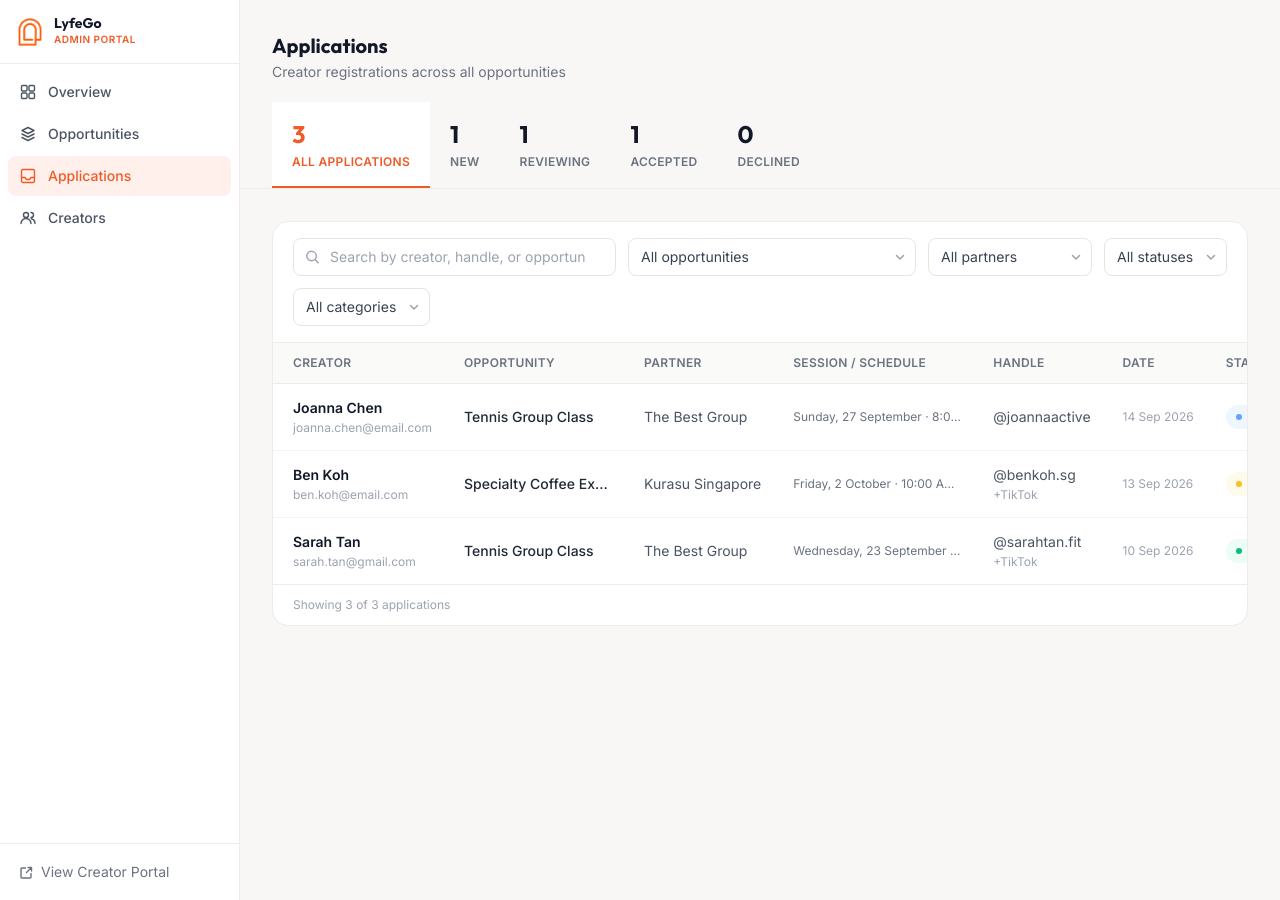
Scenario: Admin Applications list › combines filters with search, and clears them all at once
Expected: the text "Showing 3 of 3 applications" is shown, 293,597 -> 450,613
Expected: the button "Clear all filters" is not shown
Select "The Best Group" in the dropdown named "Partner" at (1010, 257), box 928,238 -> 1092,276
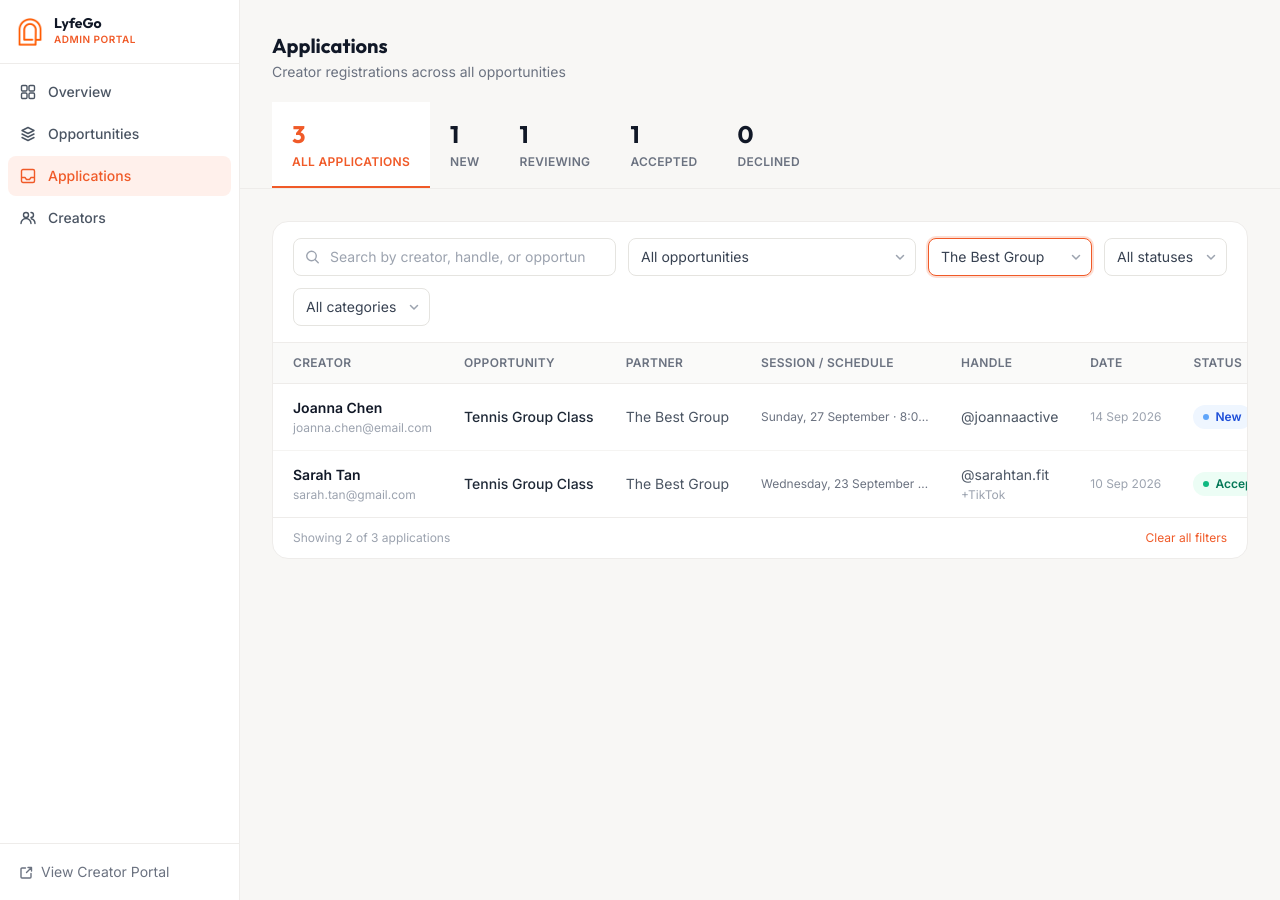
Result: the text "Showing 2 of 3 applications" is shown at 293,530 -> 450,546
Select "Sport" in the dropdown named "Category" at (362, 307), box 293,288 -> 430,326
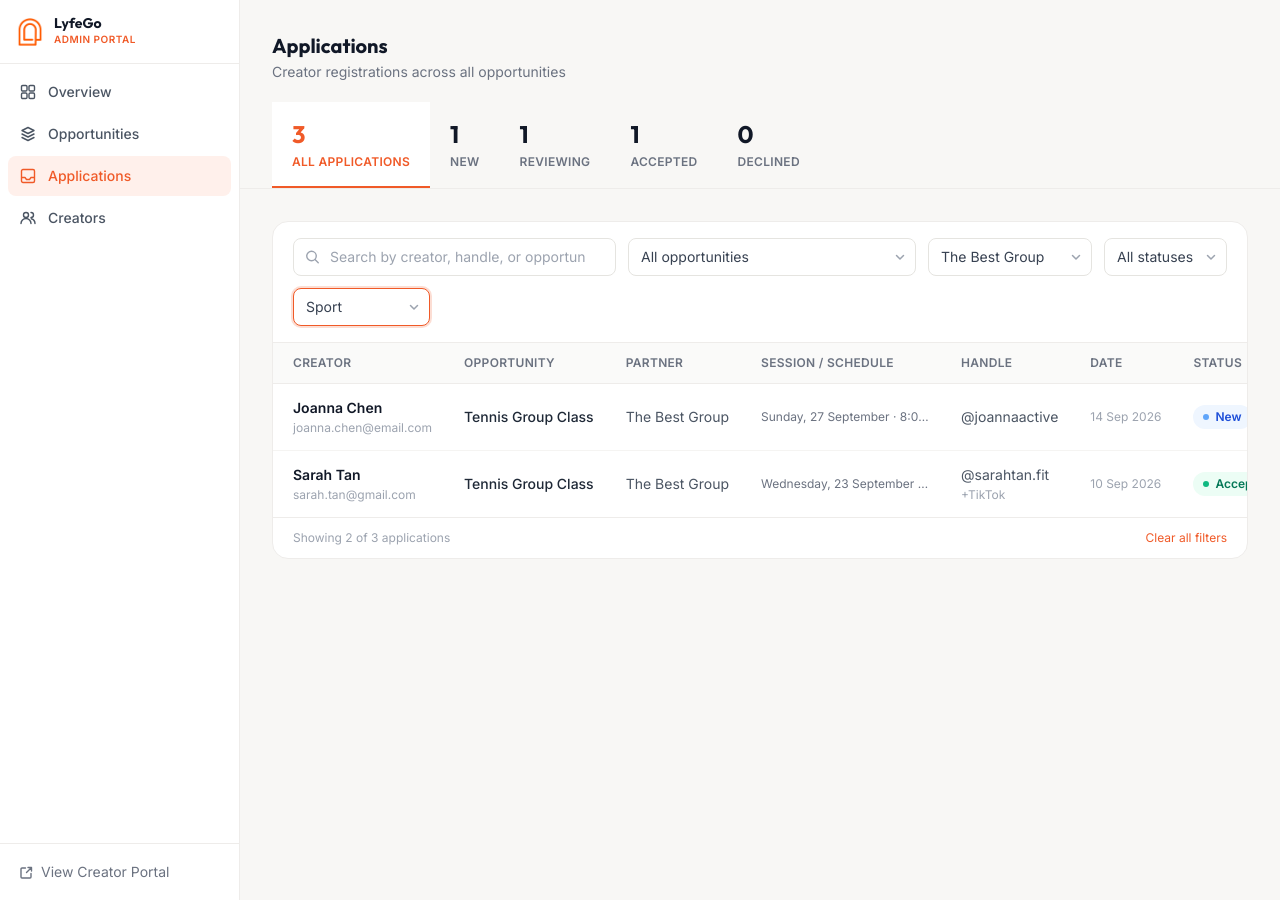
Type "@sarah" into the search field labelled "Search by creator, handle, or opportunity".
click(454, 257); type("@sarah")  # box 293,238 -> 616,276
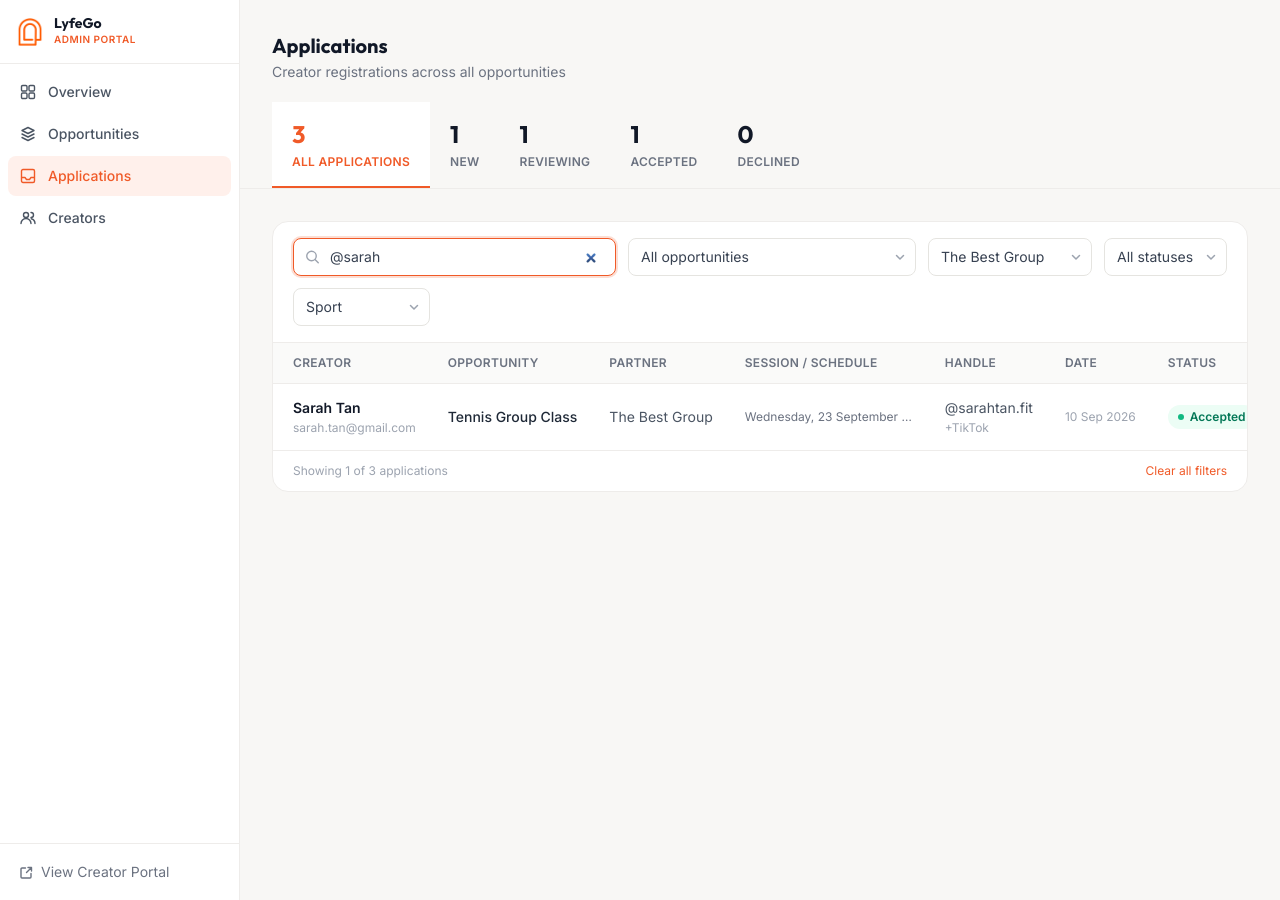
Result: the text "Showing 1 of 3 applications" is shown at 293,463 -> 448,479
Select "Specialty Coffee Experience for Two" in the dropdown named "Opportunity" at (772, 257), box 628,238 -> 916,276
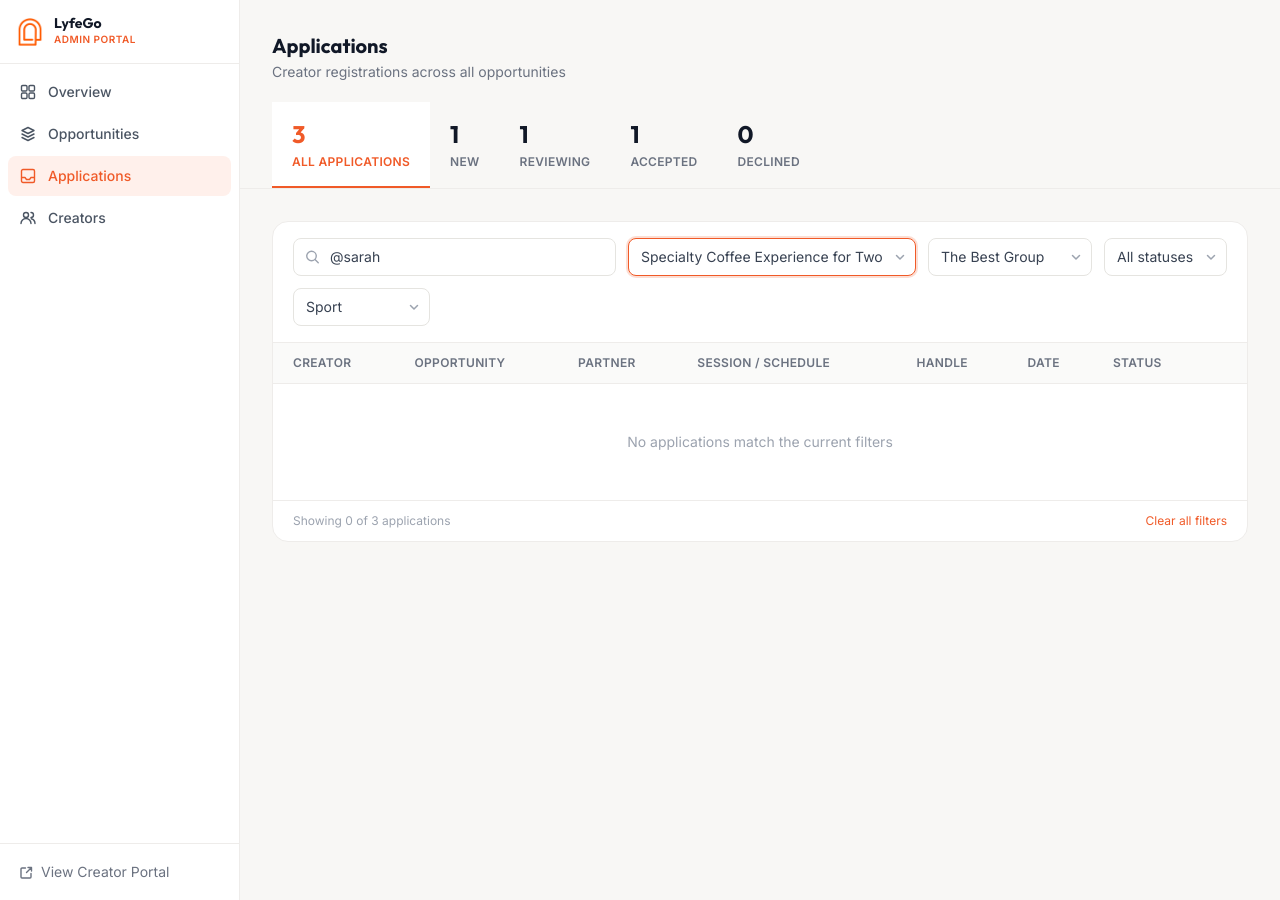
Result: the text "No applications match the current filters" is shown at 273,384 -> 1247,500
Click the button "Clear all filters".
click(1186, 521)  # box 1146,513 -> 1227,529
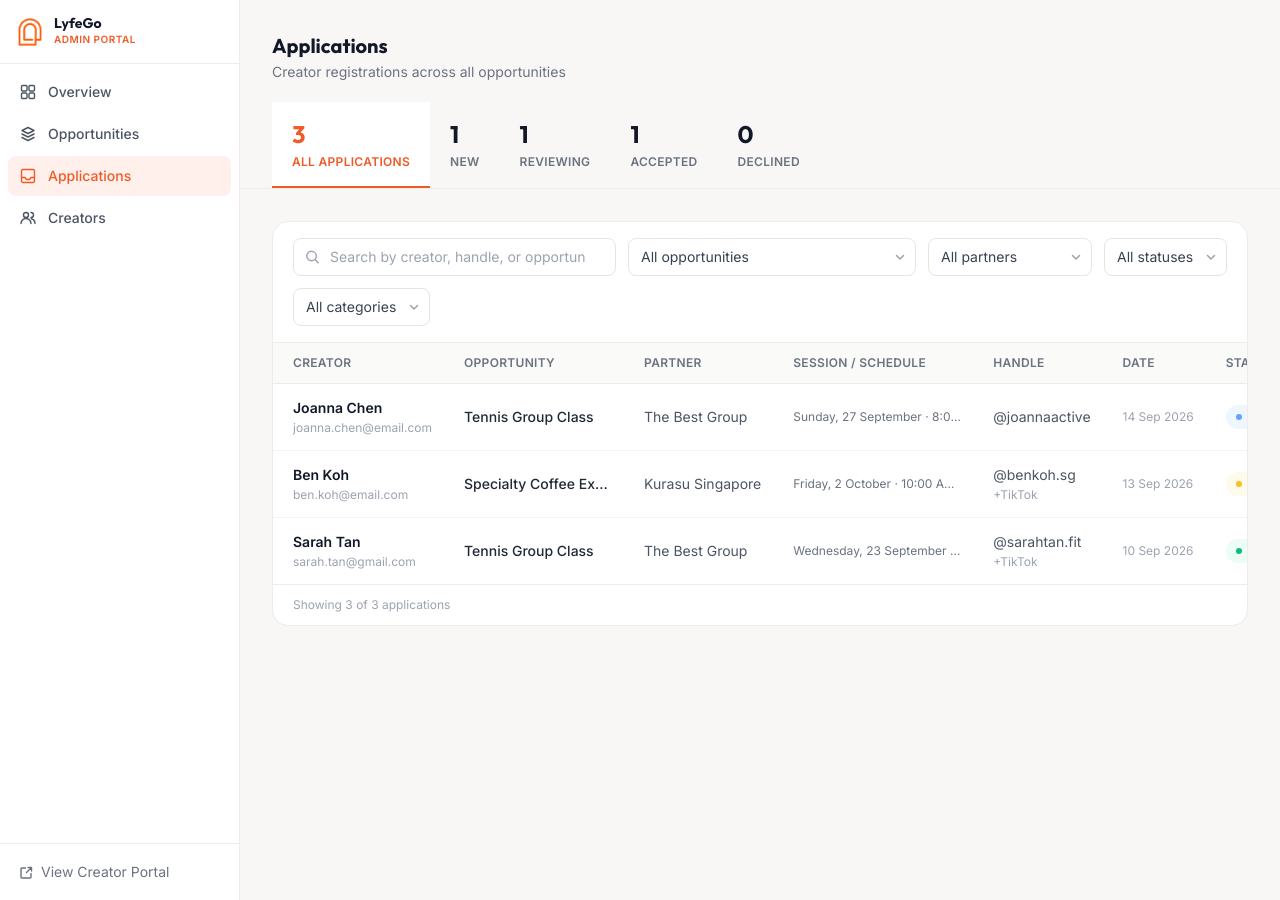
Result: the text "Showing 3 of 3 applications" is shown at 293,597 -> 450,613
Result: the search field labelled "Search by creator, handle, or opportunity" is empty at 293,238 -> 616,276
